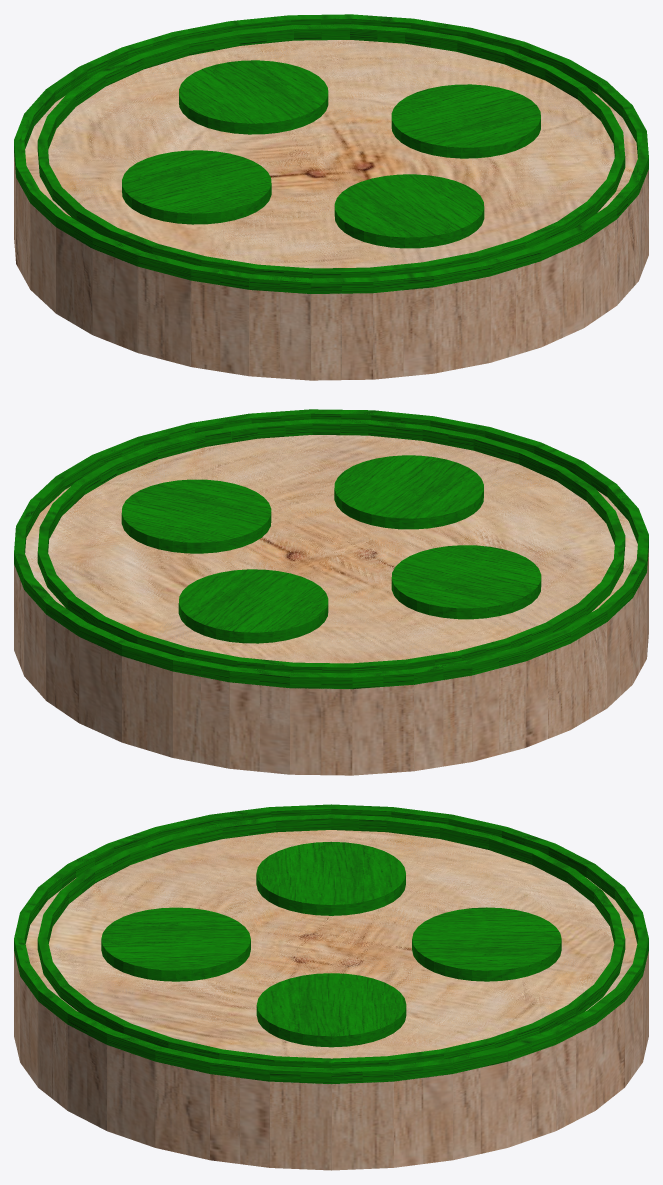
The model's file is Sonnestein4.fbx.
3 renders of one model, top to bottom at view 1: azimuth 30°, elevation 25°; view 2: azimuth 150°, elevation 25°; view 3: azimuth 270°, elevation 25°, orthographic.
Parts seen in each view (by area): view 1: Sonne4; view 2: Sonne4; view 3: Sonne4.
Boxes of the visible parts, box(x1,y1,x2,y2) form: Sonne4: box(14, 14, 648, 380); Sonne4: box(14, 409, 648, 775); Sonne4: box(14, 804, 648, 1170).
Size of the model in its own units: 200 by 34 by 200.
